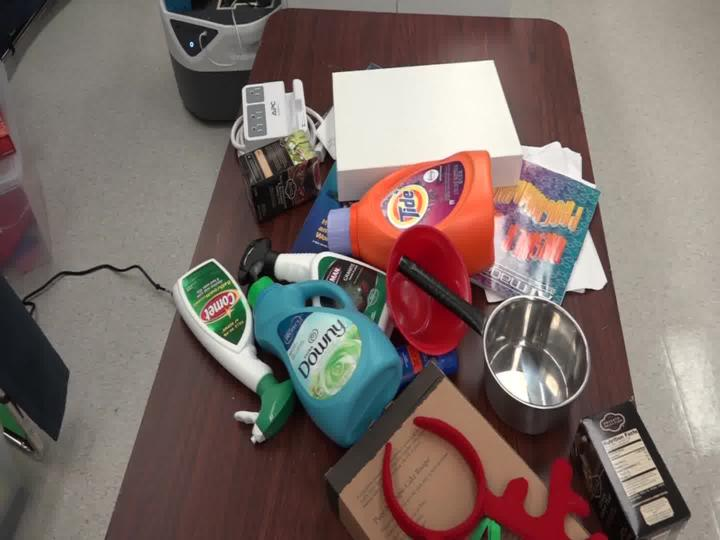tide: (313, 135, 514, 292)
